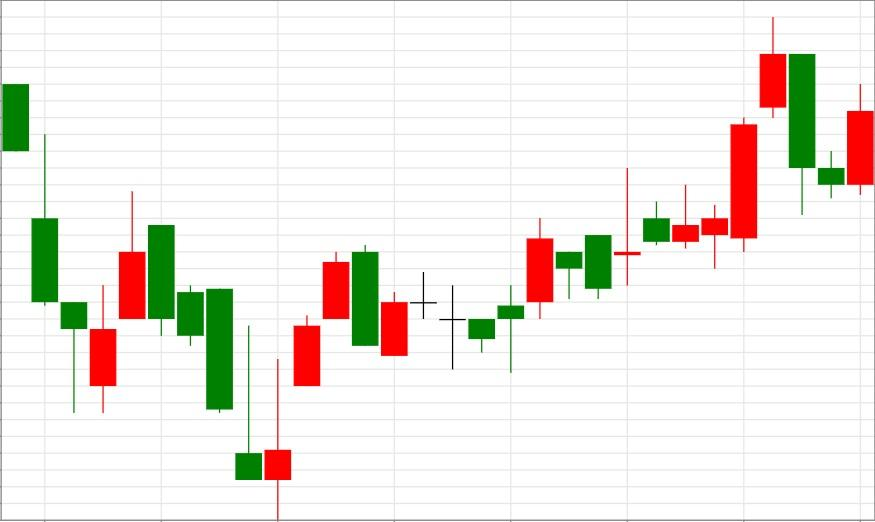bearish_engulfing_fall: (263, 245, 380, 520)
inverse_hammer_rise: (119, 190, 263, 480)
